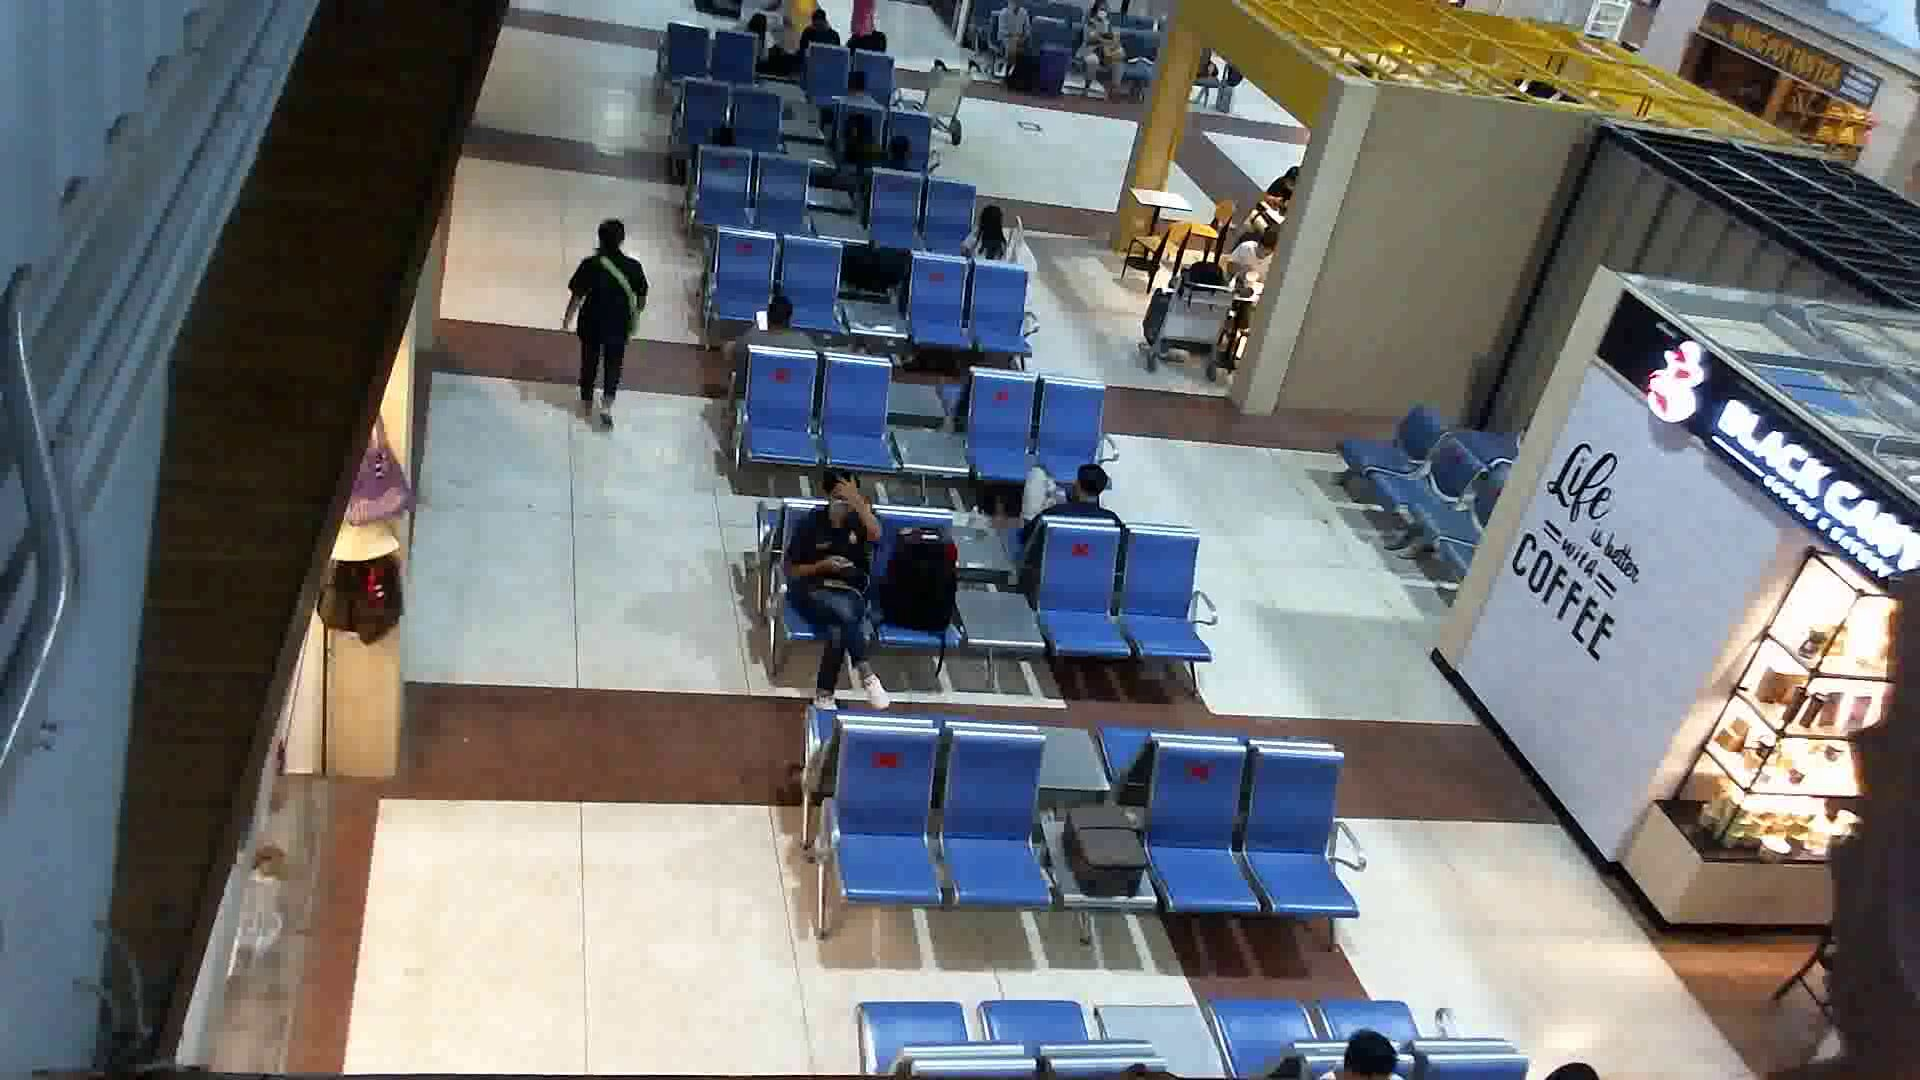luggage: (871, 515, 970, 649), (1062, 794, 1157, 904)
people: (765, 456, 899, 728), (551, 208, 661, 437)
